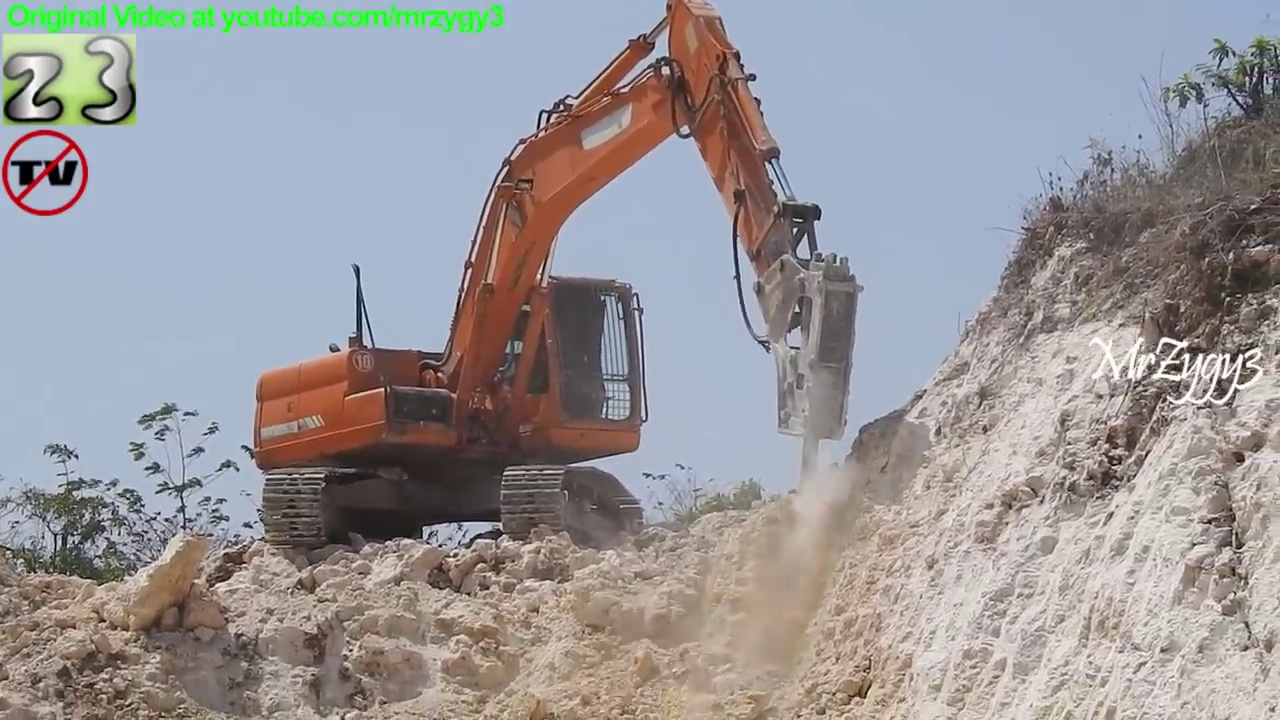excavator breaker: (241, 1, 874, 568)
